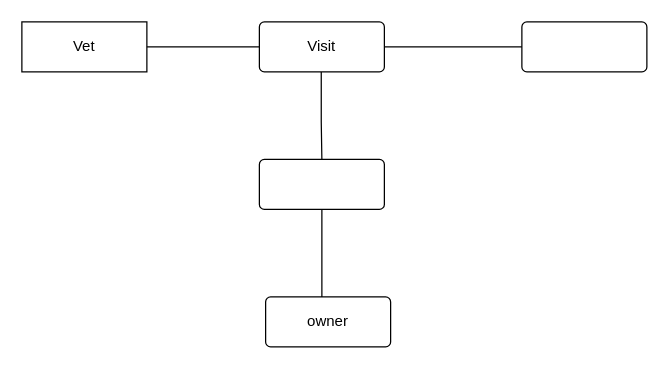
Image size: 669x369. Some labels were removed from this diagram. Each missing label, with the centre of its shape:
"pet" belongs at (321,183).
"Prescription" belongs at (584,46).
